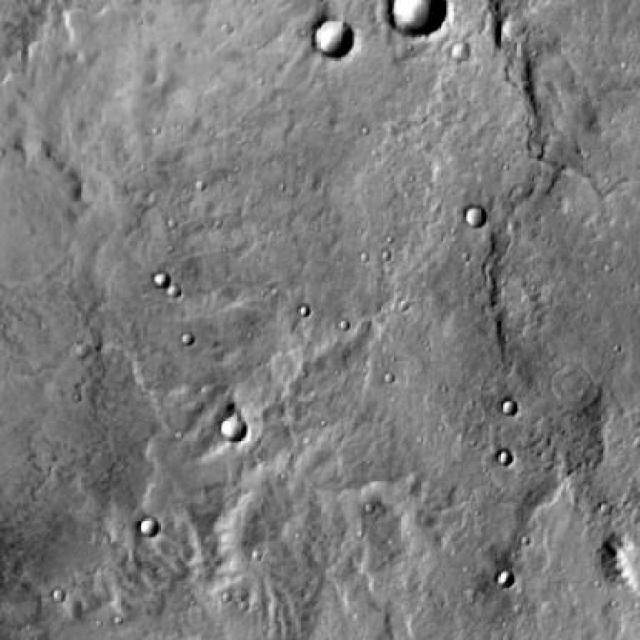crater: (385, 0, 439, 32), (306, 16, 345, 55), (220, 416, 246, 441), (467, 207, 487, 227), (139, 517, 159, 535), (152, 272, 171, 290), (500, 400, 518, 418), (453, 44, 470, 61), (498, 574, 514, 591), (166, 285, 182, 300), (498, 450, 513, 465)
